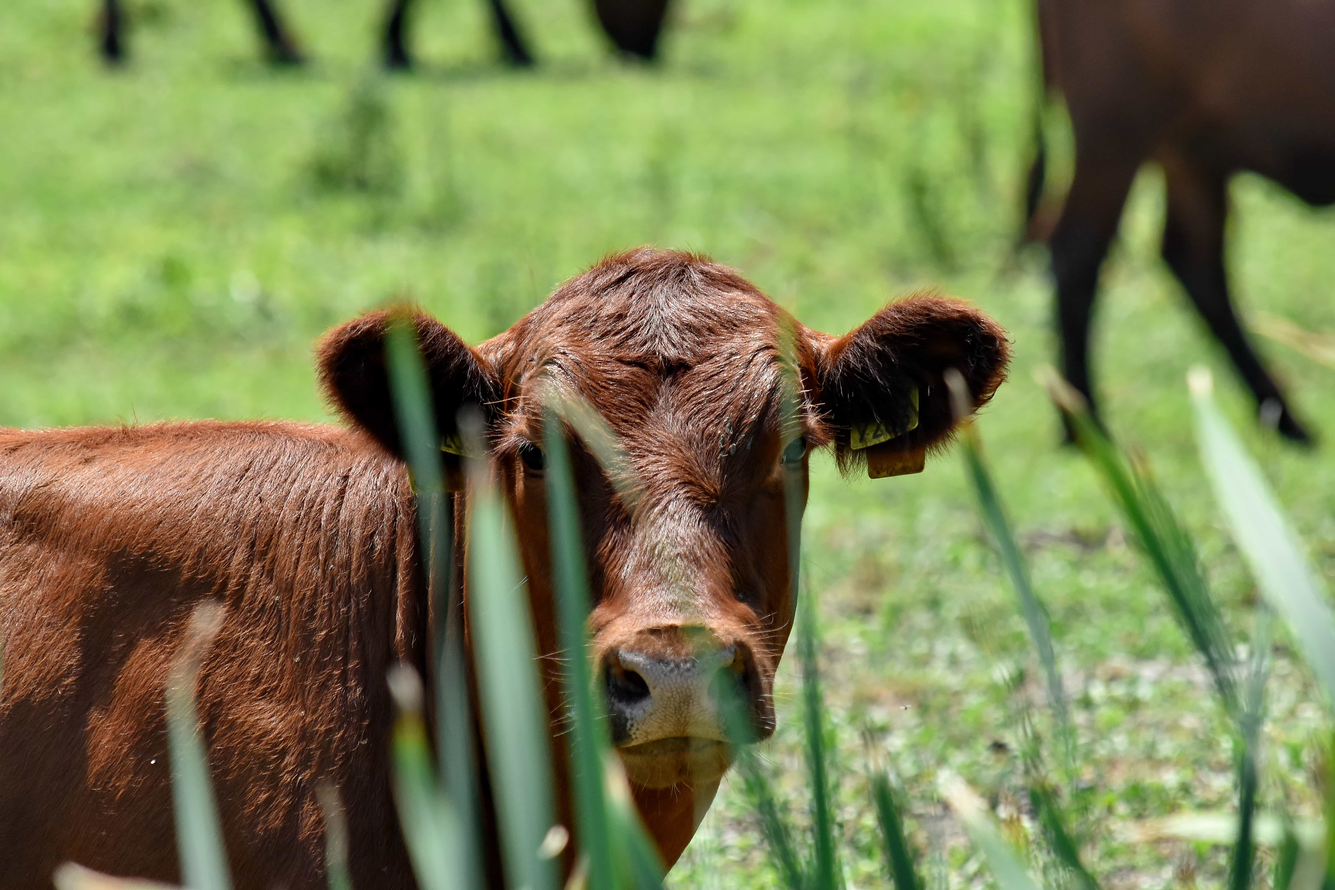bovino: (0, 245, 985, 890)
